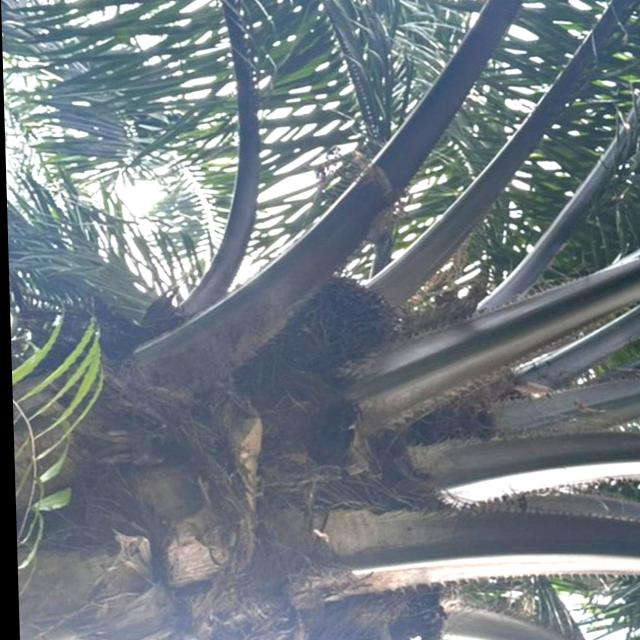unripe: (286, 264, 407, 378)
